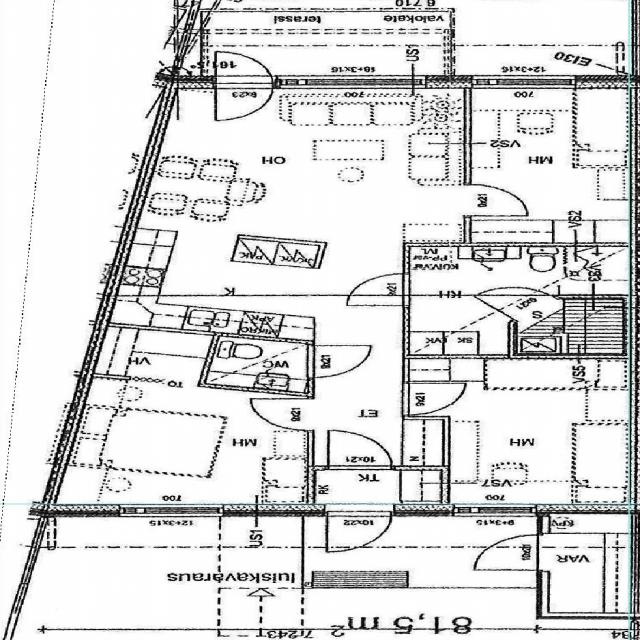door: (473, 274, 560, 323), (327, 504, 390, 552), (328, 430, 392, 470), (216, 44, 272, 89), (476, 535, 550, 569), (216, 76, 272, 120), (306, 346, 372, 377), (464, 184, 527, 216), (345, 274, 409, 305), (250, 399, 314, 430), (402, 383, 465, 414)
